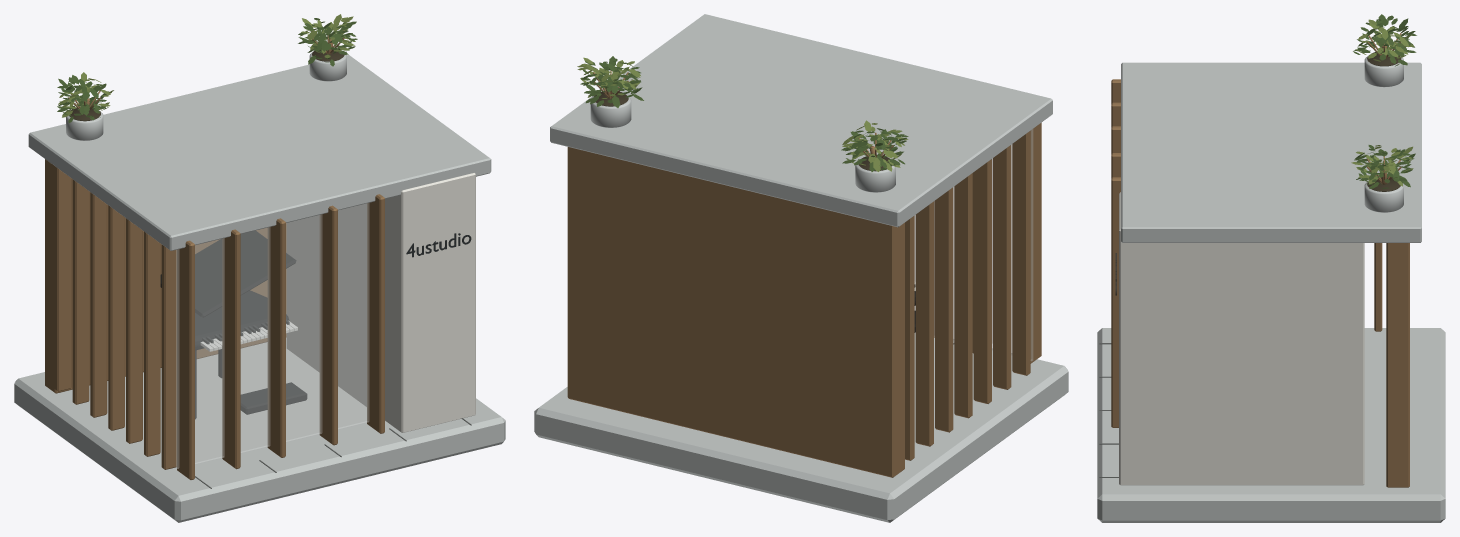
File: academy-interactive-v2.glb
The picture shows the model from 3 angles, left to right: view 1: azimuth 30°, elevation 25°; view 2: azimuth 150°, elevation 25°; view 3: azimuth 270°, elevation 25°; orthographic projection. The views are drawn at different scales.
Visible parts, largest first — view 1: facade, structure, roof, interior, feature; view 2: structure, roof, facade; view 3: structure, roof, facade.
Boxes of the visible parts, left/top/right/bottom form: facade: left=54, top=166, right=384, bottom=479; structure: left=14, top=159, right=505, bottom=522; roof: left=28, top=14, right=491, bottom=250; interior: left=160, top=230, right=307, bottom=419; feature: left=200, top=319, right=297, bottom=351; structure: left=534, top=147, right=1068, bottom=522; roof: left=550, top=14, right=1052, bottom=227; facade: left=905, top=122, right=1041, bottom=460; structure: left=1097, top=192, right=1445, bottom=522; roof: left=1121, top=14, right=1421, bottom=242; facade: left=1111, top=79, right=1382, bottom=427.
Bounding box in the file's own units: 2.04 × 1.97 × 1.76.
